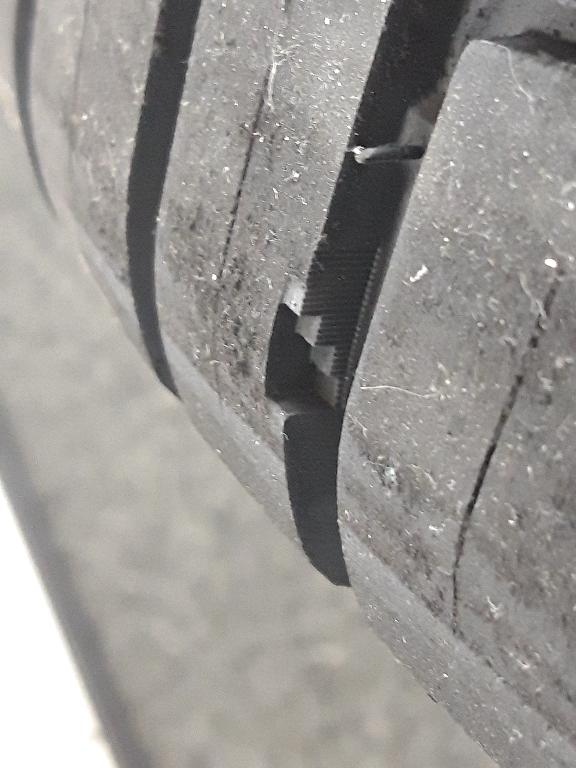temoin:75: (257, 265, 378, 428)
